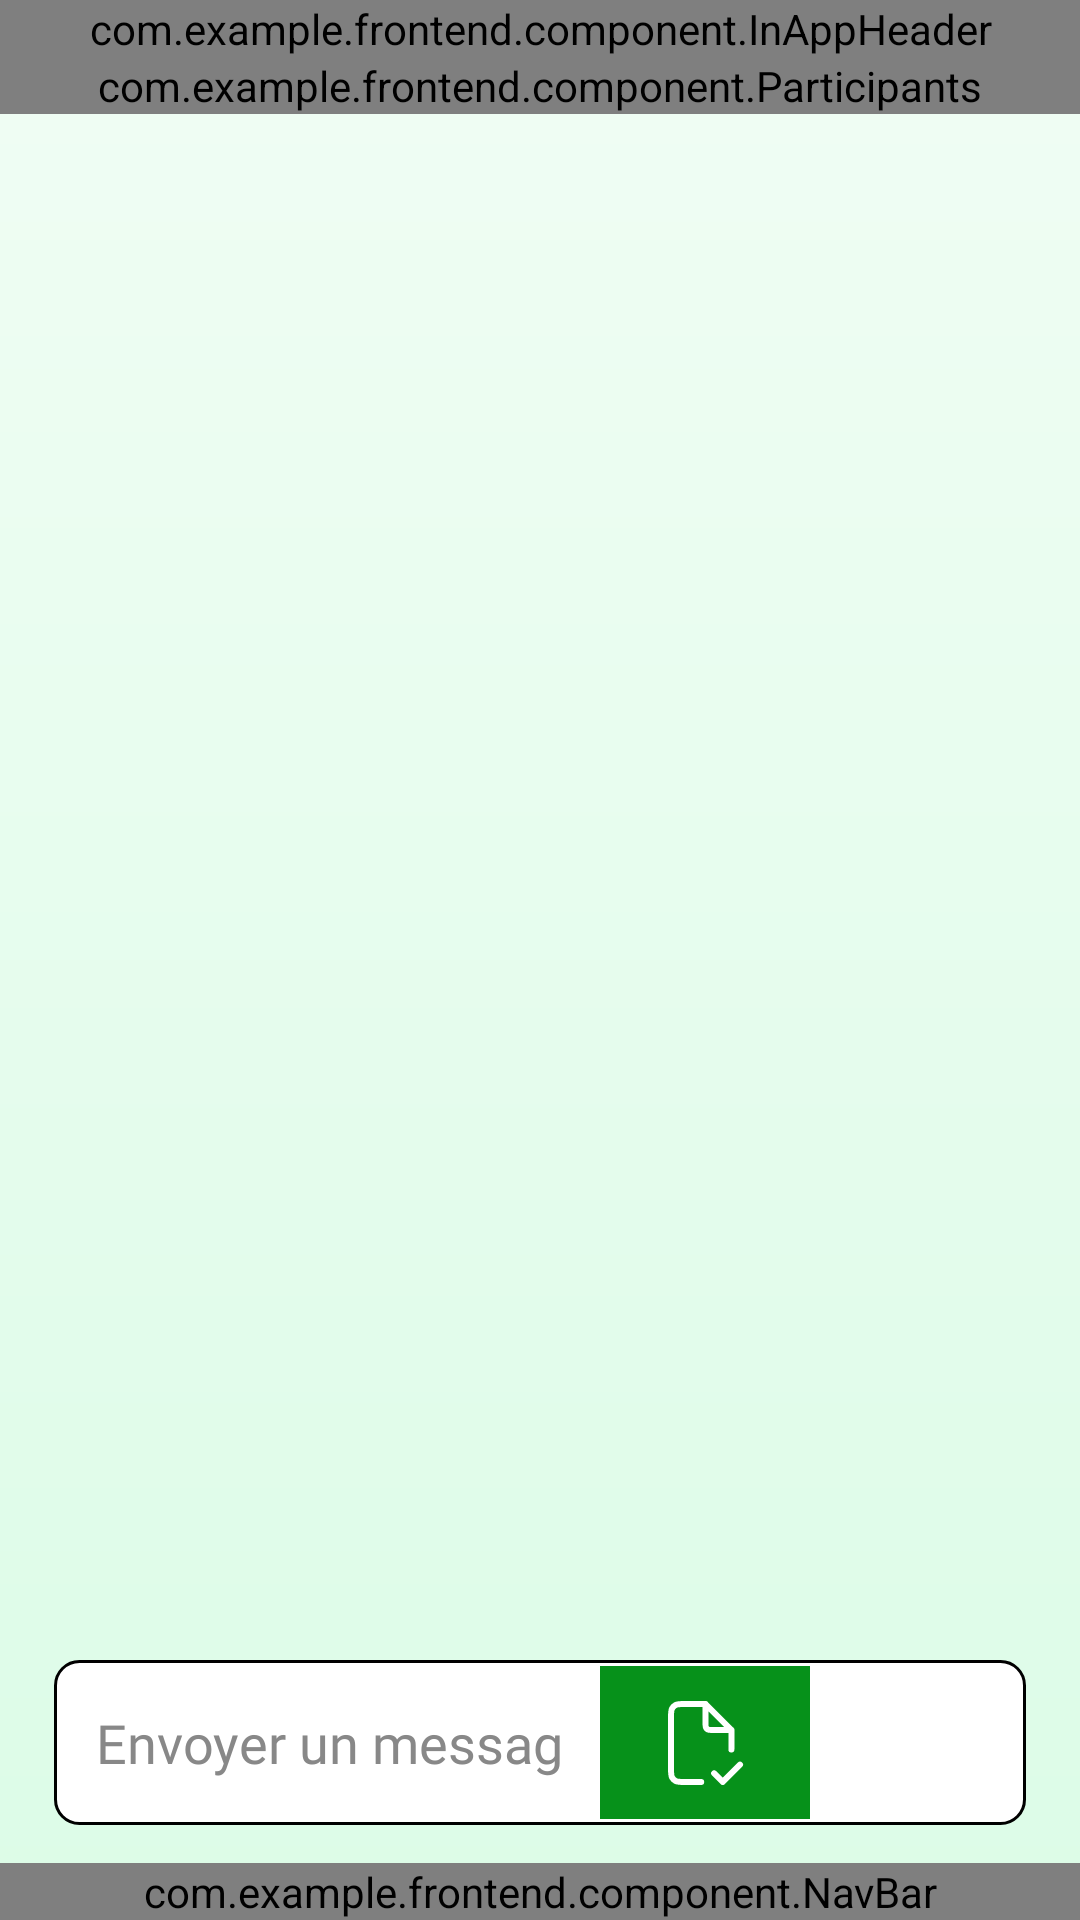

Icon bounding boxes for this 1080x1920 phone screenshot, format rect(x1, y1, x2, y2):
Ajouter une PJ: rect(600, 1666, 810, 1819)
